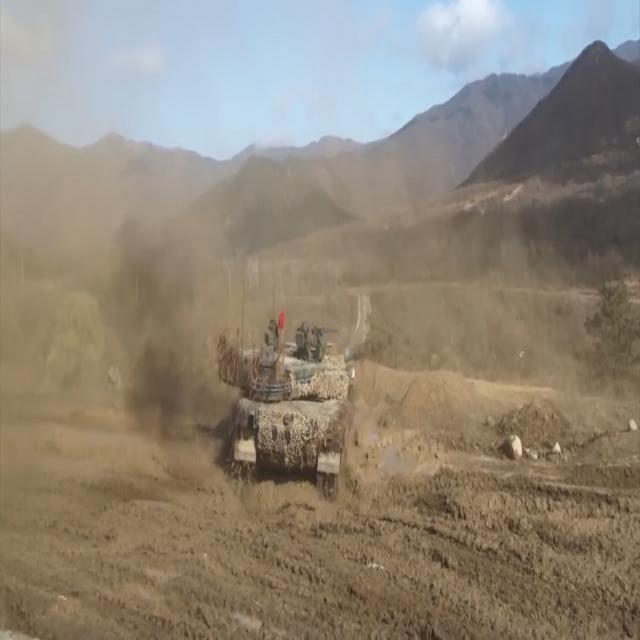korea tank: (216, 317, 396, 498)
